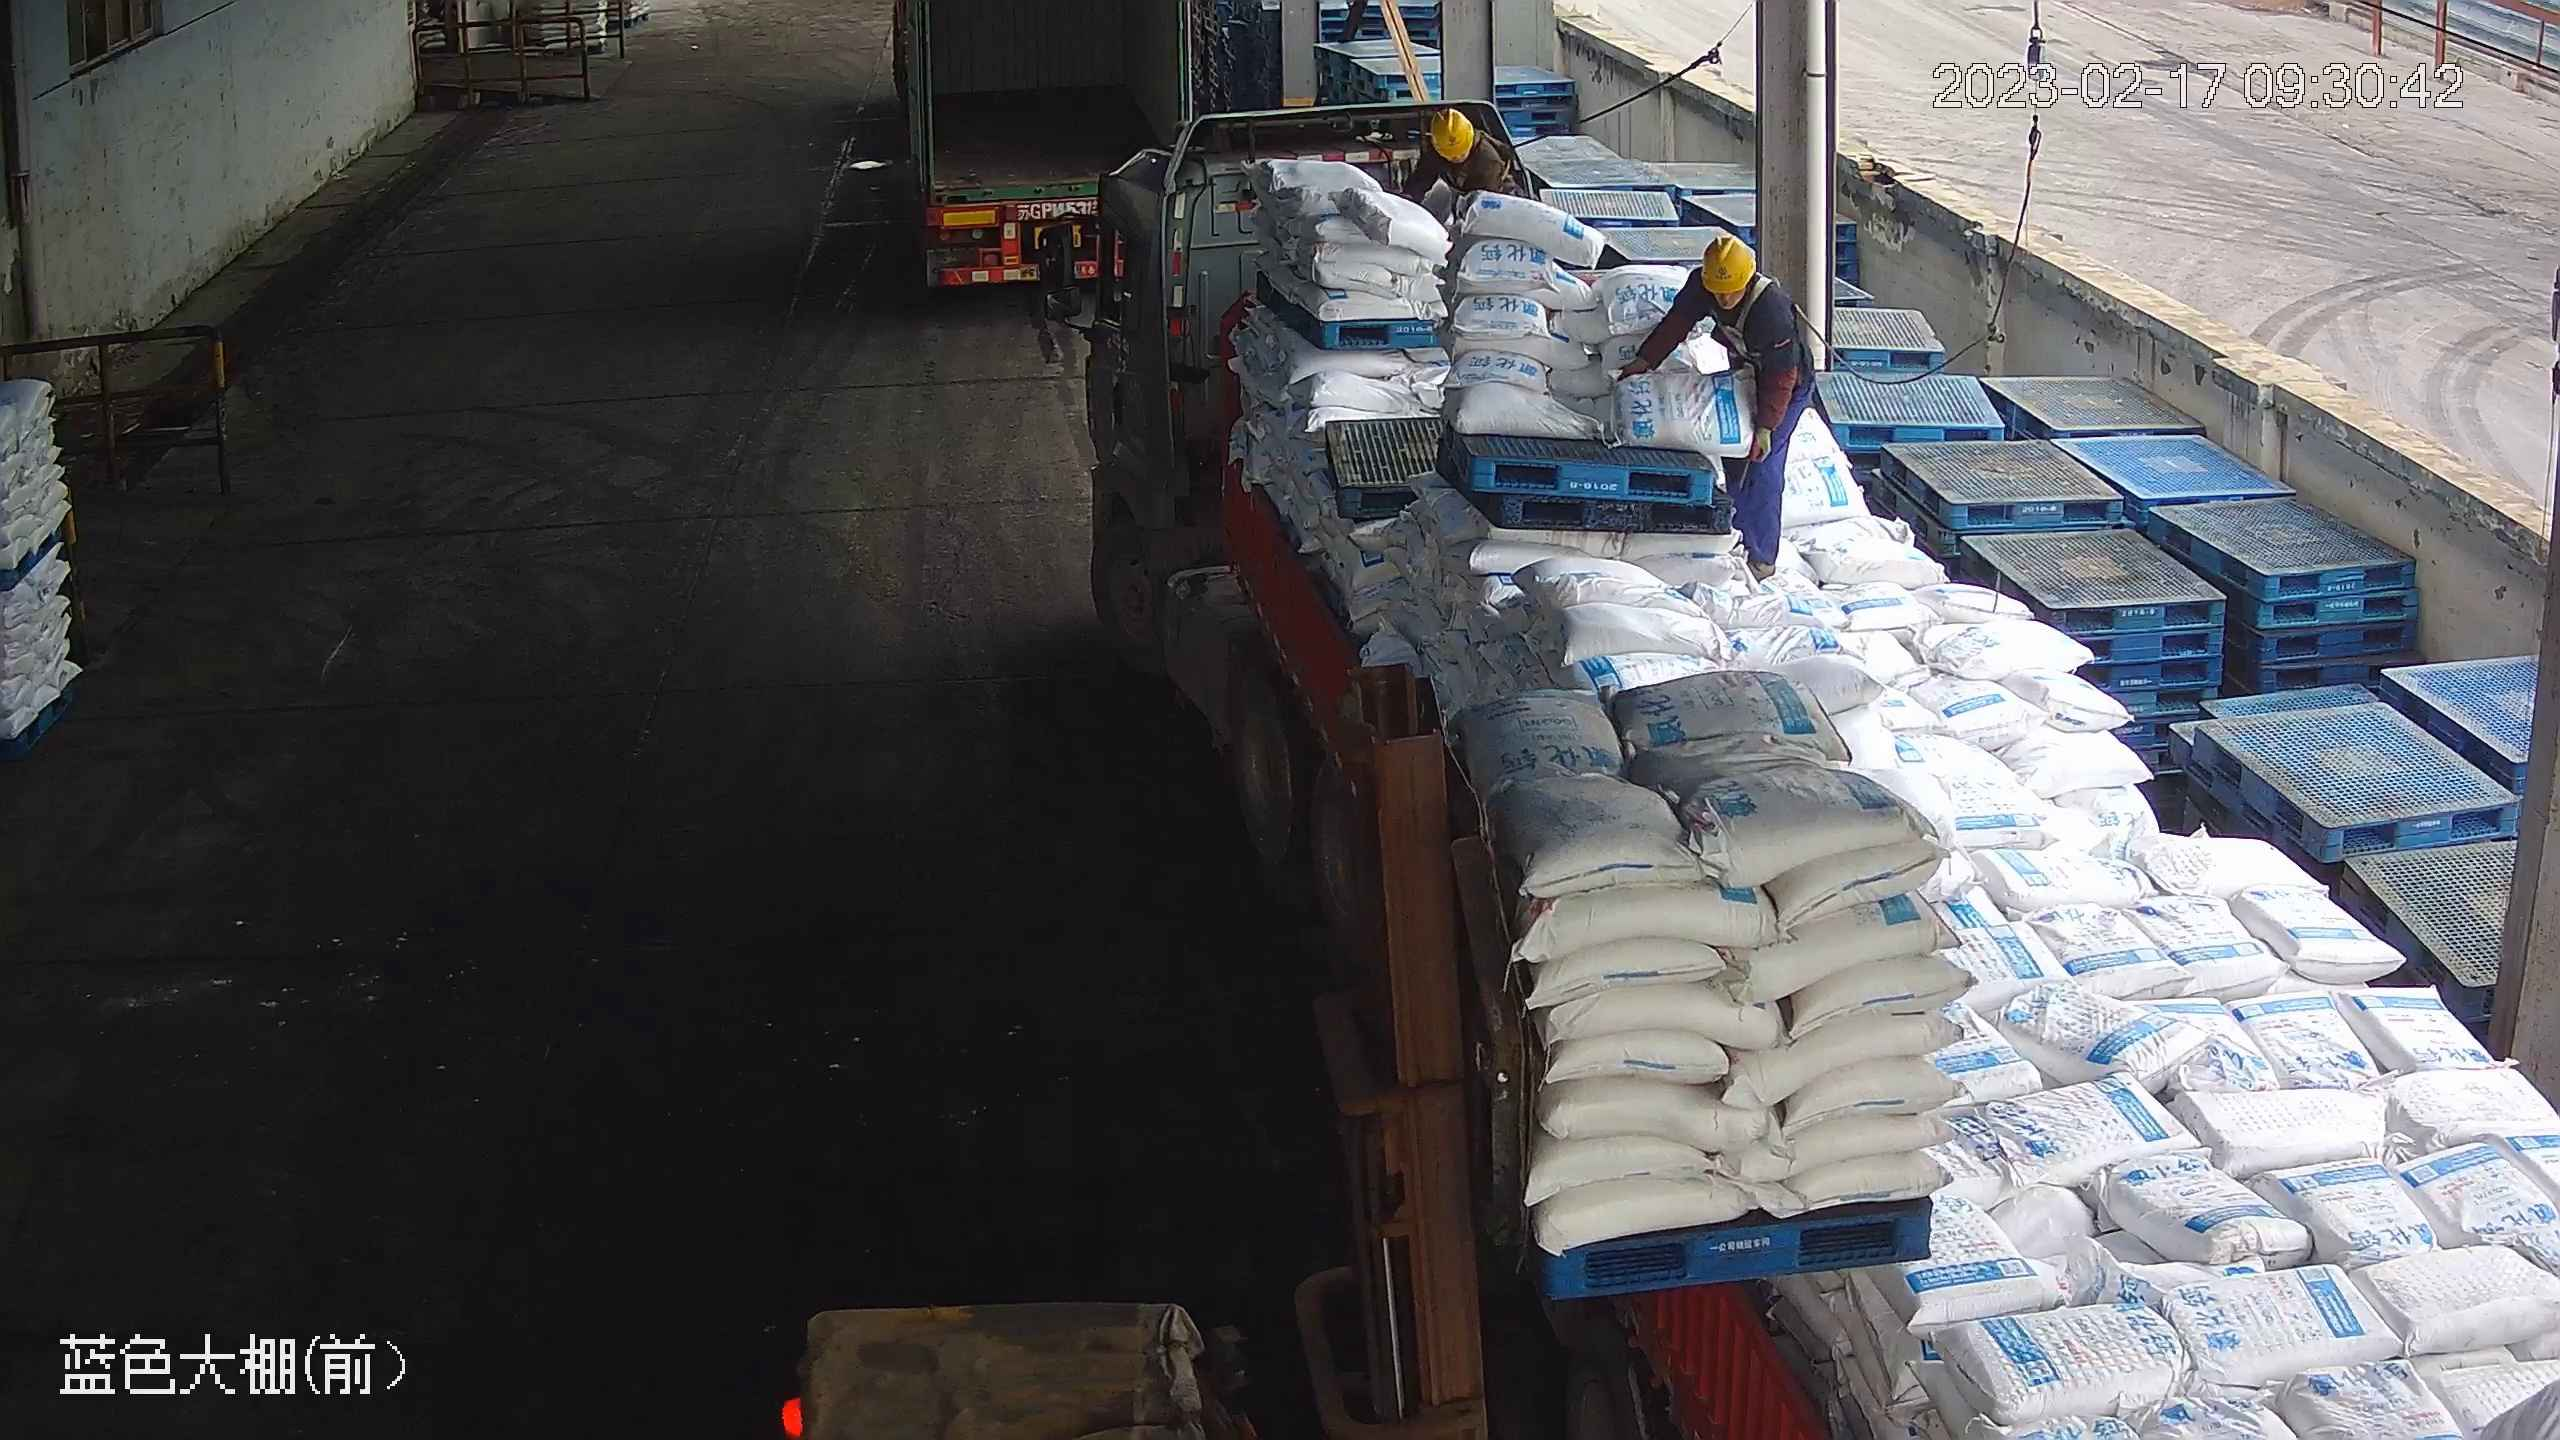belt: (1693, 272, 1796, 369), (1435, 140, 1549, 188)
head: (1657, 233, 1778, 356), (1405, 106, 1510, 184)
helmet: (1700, 237, 1761, 296), (1425, 105, 1481, 164)
people: (1620, 233, 1825, 581)
truck: (1015, 89, 2560, 1440), (883, 1, 1203, 339)
